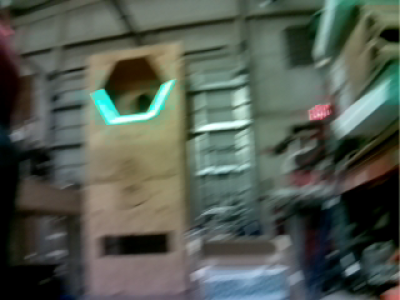target: (90, 79, 175, 124)
